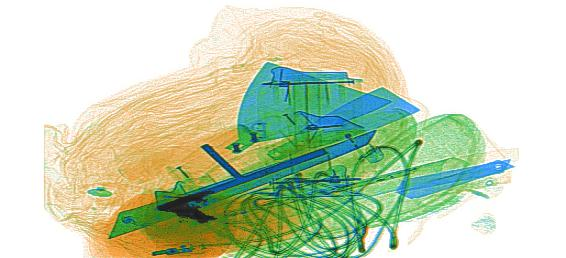knife: (396, 157, 514, 199)
lighter: (328, 105, 384, 165)
